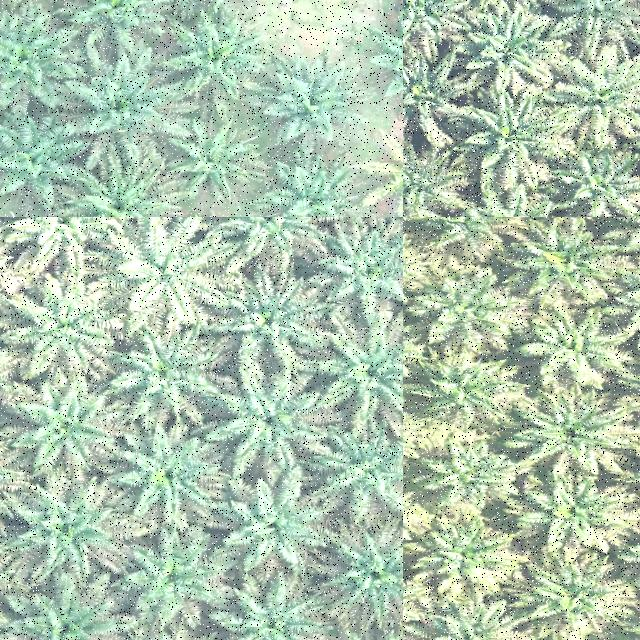Ganoderma: (379, 147, 403, 208)
